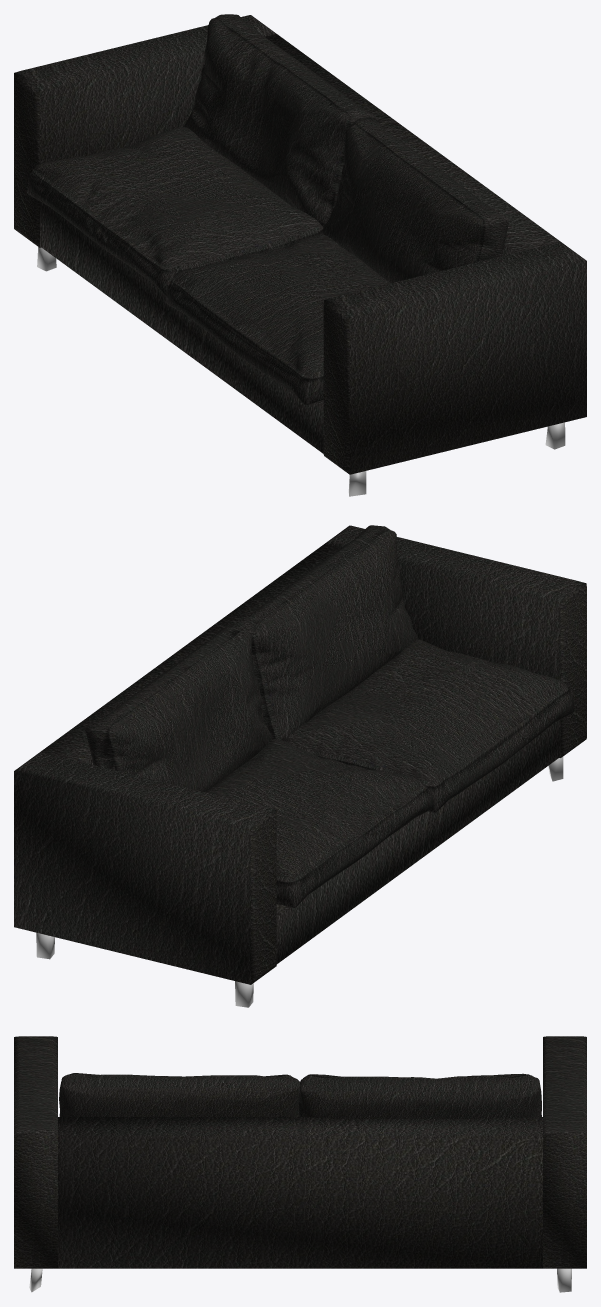
File: black_leather_sofa.glb
3 renders of one model, top to bottom at view 1: azimuth 30°, elevation 25°; view 2: azimuth 150°, elevation 25°; view 3: azimuth 270°, elevation 25°, orthographic. The views are drawn at different scales.
Visible parts, largest first — view 1: CuscinoADx (×2); view 2: CuscinoADx (×2); view 3: CuscinoADx (×2).
Boxes of the visible parts, box(x1,y1,x2,y2) form: CuscinoADx (×2): box(14, 14, 586, 496); CuscinoADx (×2): box(14, 525, 586, 1007); CuscinoADx (×2): box(14, 1036, 586, 1292).
Size of the model in its own units: 0.2633 by 0.2242 by 0.5981.
2 materials, 1 textured.
